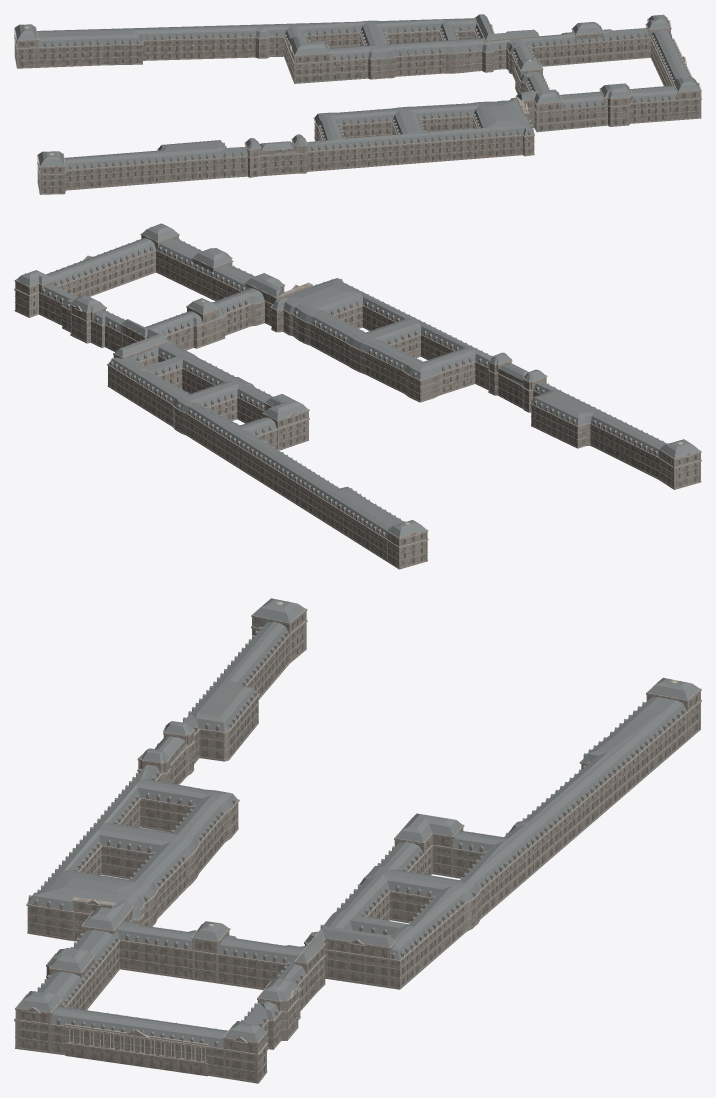
Rendered from louvre.glb.
3 views of the same model, one above another, from view 1: azimuth 30°, elevation 25°; view 2: azimuth 150°, elevation 25°; view 3: azimuth 270°, elevation 25° (orthographic). The views are drawn at different scales.
Parts seen in each view (by area): view 1: stone, roof, trim, window; view 2: stone, roof, trim, window; view 3: roof, stone, trim, window.
Part boxes in pixels (x1,y1,x2,y2): stone: (15,18,700,193); roof: (15,14,700,171); trim: (14,17,701,194); window: (21,28,696,192); stone: (15,234,699,567); roof: (16,223,700,537); trim: (14,227,701,569); window: (18,249,696,565); roof: (16,598,699,1048); stone: (15,609,699,1081); trim: (14,601,701,1083); window: (21,615,697,1080).
Size of the model in its own units: 711 by 38 by 467.
Materials: 4 (4 with a texture image).
